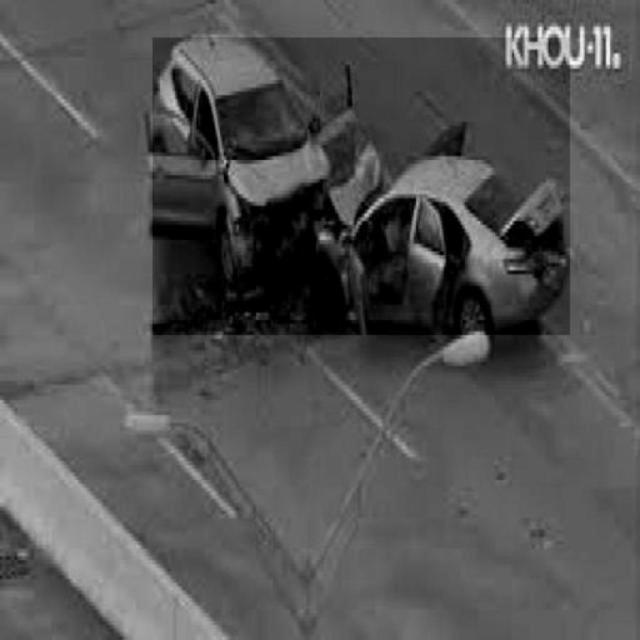accident: (152, 37, 570, 335)
